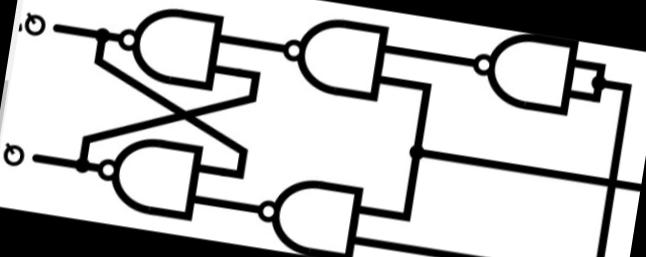nand: (89, 126, 210, 229), (464, 23, 587, 124), (108, 0, 232, 96), (276, 6, 396, 105), (250, 161, 367, 257)
